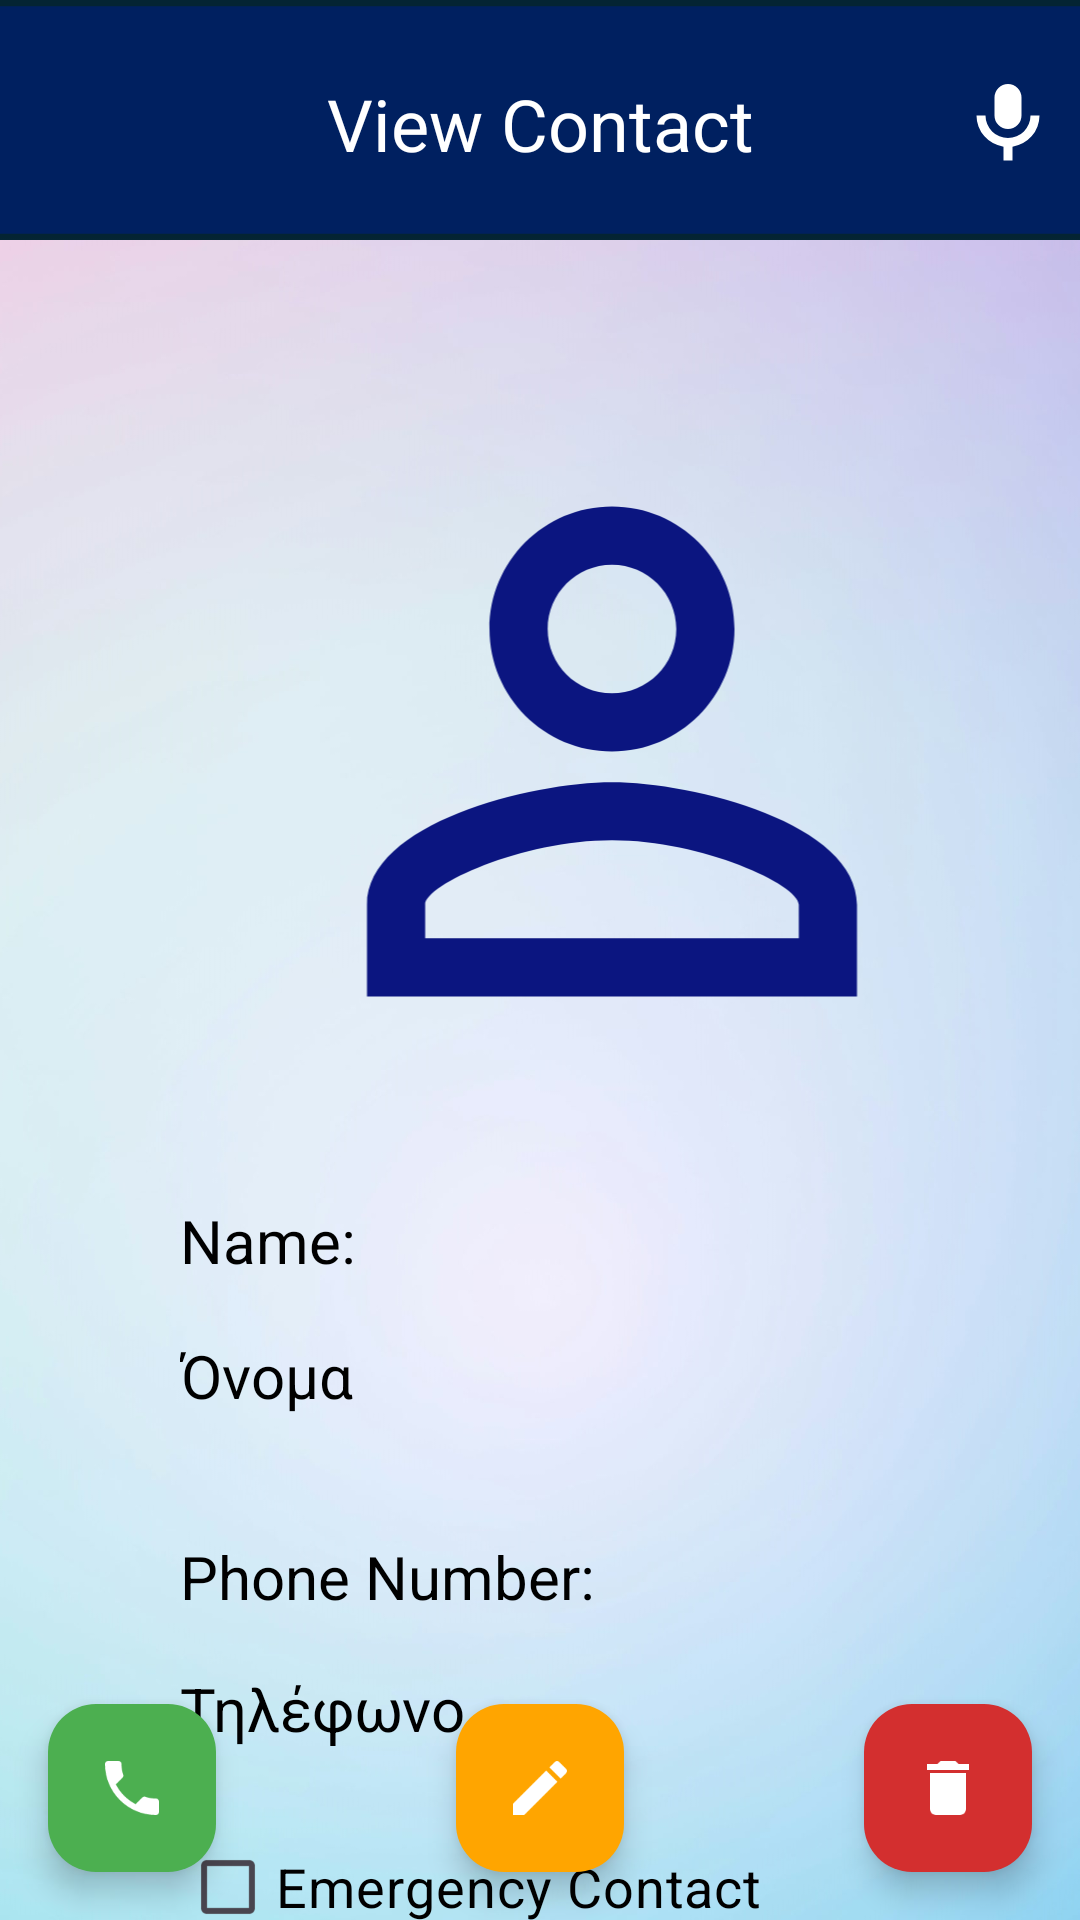

Icons on this 1080*1920 Android screen, each with the point to tap as (x=x, y=y):
delete: (x=948, y=1788)
edit: (x=540, y=1788)
